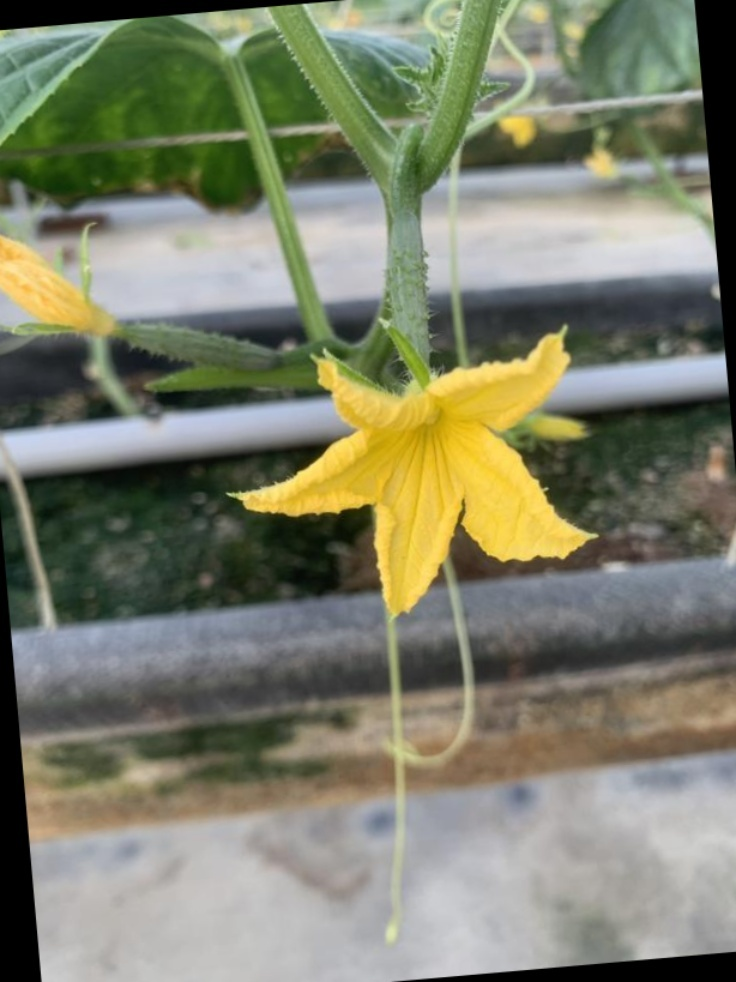bear: (1, 210, 289, 391)
flowering: (218, 232, 596, 623)
